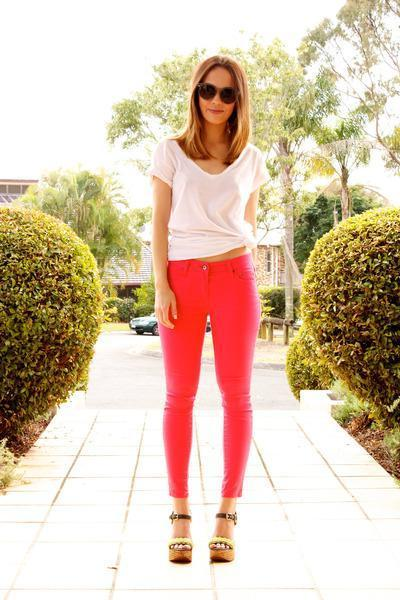short sleeve shirt: (149, 140, 271, 260)
trousers: (153, 253, 268, 508)
